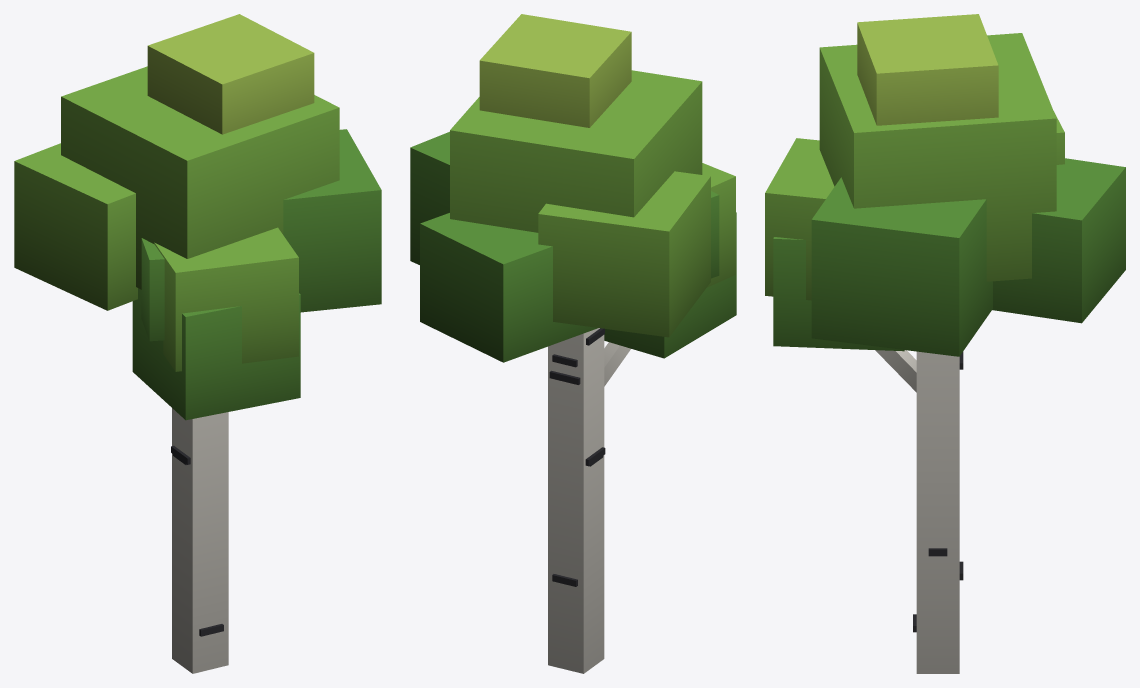
The model's file is A06_birch_tall.glb.
The picture shows the model from 3 angles, left to right: view 1: azimuth 30°, elevation 25°; view 2: azimuth 150°, elevation 25°; view 3: azimuth 270°, elevation 25°; orthographic projection. The views are drawn at different scales.
Parts seen in each view (by area): view 1: A06_birch_tall; view 2: A06_birch_tall; view 3: A06_birch_tall.
Boxes of the visible parts, x1,y1,x2,y2 form: A06_birch_tall: (14, 14, 381, 673); A06_birch_tall: (410, 14, 736, 673); A06_birch_tall: (765, 14, 1125, 673).
Size of the model in its own units: 3.47 by 6.81 by 3.51.
